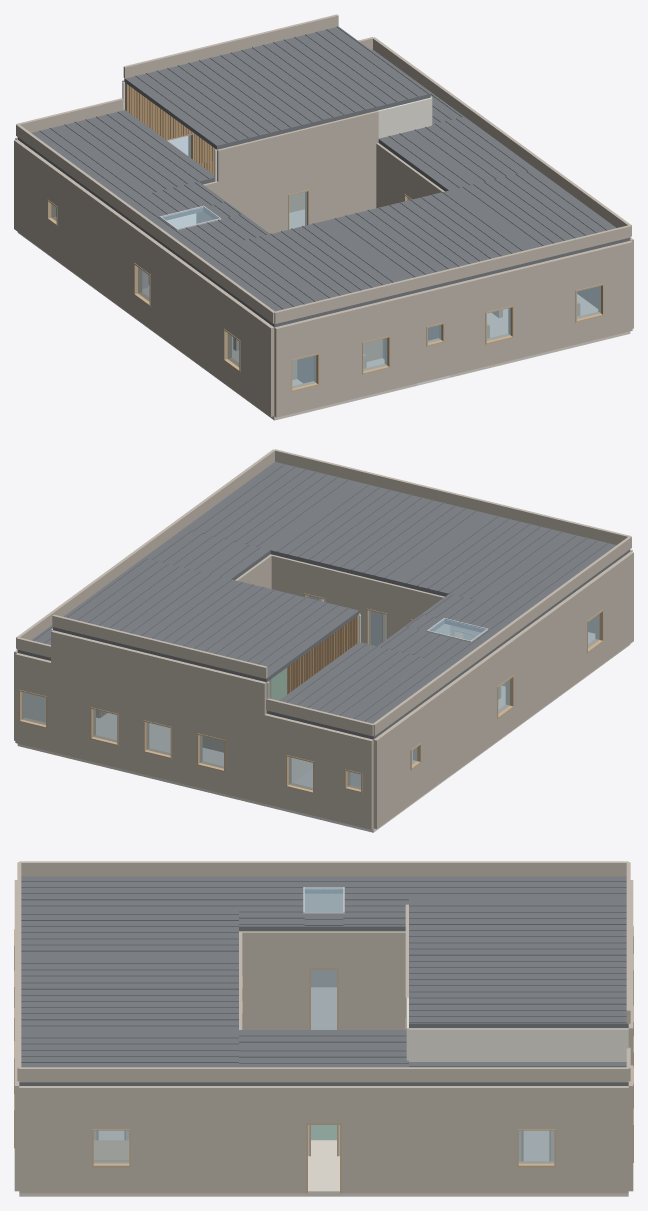
The picture shows the model from 3 angles, top to bottom: view 1: azimuth 30°, elevation 25°; view 2: azimuth 150°, elevation 25°; view 3: azimuth 270°, elevation 25°; orthographic projection. The views are drawn at different scales.
Parts seen in each view (by area): view 1: roof:roof-living, wall:W-8bdcbcf73927 (×3), wall:W-2123eda892ce (×4), wall:W-14fe234c85d4 (×4), wall:W-2ececb1952cb (×4), wall:W-e0f26eca0464 (×4), wall:W-3370dc335148 (×4), wall:W-3fbd13097563 (×4), roof:roof-bedroom-1, roof:roof-kitchen, roof:roof-bedroom-3, roof:roof-bedroom-2 (+34 smaller); view 2: wall:W-9cc025dc41bd (×6), roof:roof-living, wall:W-2ececb1952cb (×4), roof:roof-bedroom-1, wall:W-14fe234c85d4 (×4), wall:W-3fbd13097563 (×4), roof:roof-bedroom-3, roof:roof-bedroom-2, wall:W-b6febb79fa47 (×4), roof:roof-kitchen, roof:roof-dining (×2), roof:roof-study (+34 smaller); view 3: roof:roof-living, wall:W-c5ebe82f5b4f (×4), wall:W-e8e1a32730bd (×4), wall:W-4859a319fa9e (×3), wall:W-9c931e1cdbe0 (×3), roof:roof-bedroom-1, roof:roof-bedroom-3, roof:roof-dining (×4), roof:roof-bedroom-2, wall:W-1d2b8ad55468, roof:roof-study, roof:roof-foyer (+37 smaller).
Part boxes in pixels (<box>): roof:roof-living: <box>124,26,430,149</box>; wall:W-8bdcbcf73927 (×3): <box>217,110,378,233</box>; wall:W-2123eda892ce (×4): <box>450,261,546,374</box>; wall:W-14fe234c85d4 (×4): <box>193,270,274,416</box>; wall:W-2ececb1952cb (×4): <box>14,139,94,285</box>; wall:W-e0f26eca0464 (×4): <box>332,293,418,403</box>; wall:W-3370dc335148 (×4): <box>545,240,632,351</box>; wall:W-3fbd13097563 (×4): <box>106,207,181,348</box>; roof:roof-bedroom-1: <box>373,200,544,284</box>; roof:roof-kitchen: <box>54,110,215,194</box>; roof:roof-bedroom-3: <box>254,232,416,313</box>; roof:roof-bedroom-2: <box>468,180,630,261</box>; wall:W-9cc025dc41bd (×6): <box>51,630,268,803</box>; roof:roof-living: <box>53,558,359,682</box>; wall:W-2ececb1952cb (×4): <box>373,683,454,828</box>; roof:roof-bedroom-1: <box>282,482,453,561</box>; wall:W-14fe234c85d4 (×4): <box>553,551,633,697</box>; wall:W-3fbd13097563 (×4): <box>466,619,541,760</box>; roof:roof-bedroom-3: <box>410,513,572,590</box>; roof:roof-bedroom-2: <box>198,462,358,538</box>; wall:W-b6febb79fa47 (×4): <box>264,713,337,820</box>; roof:roof-kitchen: <box>266,642,429,730</box>; roof:roof-dining (×2): <box>378,594,537,671</box>; roof:roof-study: <box>496,534,630,607</box>; roof:roof-living: <box>409,900,628,1028</box>; wall:W-c5ebe82f5b4f (×4): <box>19,1086,203,1193</box>; wall:W-e8e1a32730bd (×4): <box>444,1086,628,1193</box>; wall:W-4859a319fa9e (×3): <box>239,1086,408,1193</box>; wall:W-9c931e1cdbe0 (×3): <box>240,931,405,1029</box>; roof:roof-bedroom-1: <box>21,977,203,1031</box>; roof:roof-bedroom-3: <box>21,908,203,957</box>; roof:roof-dining (×4): <box>239,876,408,931</box>; roof:roof-bedroom-2: <box>19,1032,203,1085</box>; wall:W-1d2b8ad55468: <box>444,1028,628,1061</box>; roof:roof-study: <box>21,876,203,908</box>; roof:roof-foyer: <box>239,1045,408,1085</box>.
Bounding box in the file's own units: 15.45 × 5.66 × 19.23.
